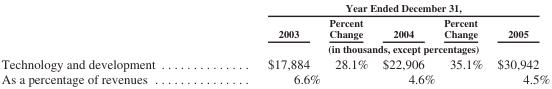table: (0, 1, 549, 86)
table column: (0, 1, 210, 86), (210, 1, 324, 86), (374, 1, 438, 86), (489, 1, 549, 86), (438, 1, 489, 86), (324, 1, 374, 86)
table column header: (0, 1, 549, 55)
table row: (0, 14, 549, 40), (0, 55, 549, 71), (0, 40, 549, 55), (0, 71, 549, 86), (0, 1, 549, 14)
table spanning cell: (210, 40, 549, 55), (210, 1, 549, 14)
